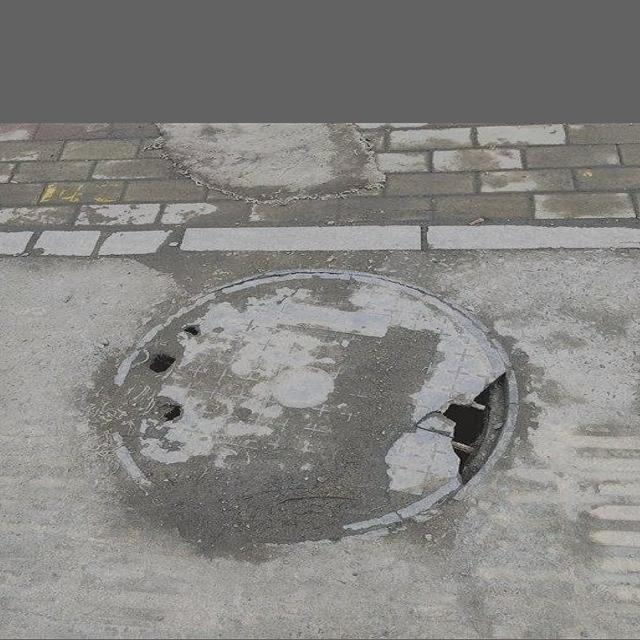broke: (102, 277, 523, 535)
